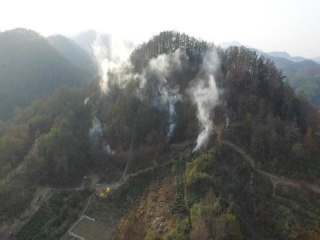smoke: (90, 32, 234, 156)
